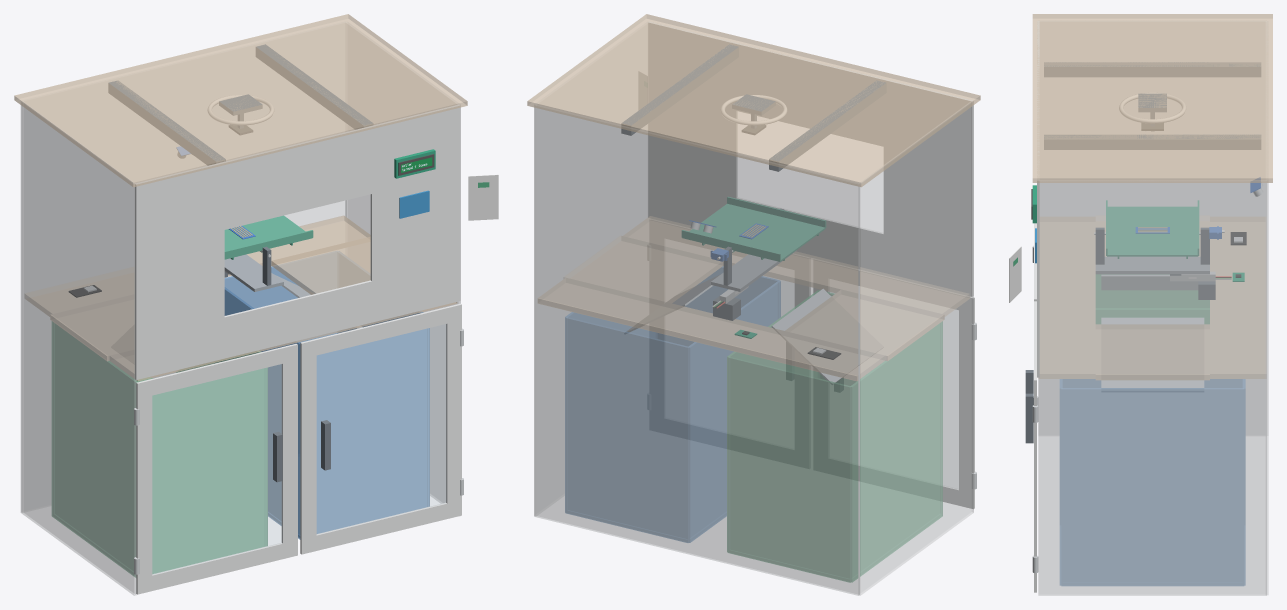
The model's file is counting_system.glb.
3 views of the same model, side by side, from view 1: azimuth 30°, elevation 25°; view 2: azimuth 150°, elevation 25°; view 3: azimuth 270°, elevation 25° (orthographic).
Visible parts, largest first — view 1: Counting_System, Lid, WET_bin, DRY_bin_door, WET_bin_door, DRY_bin, Sorting_flap_3D_printed_200_x_160, LCD_1_outside_the_front_panel_, RFID_reader_outside_the_front_panel_; view 2: Counting_System, WET_bin, Lid, DRY_bin, WET_bin_door, DRY_bin_door, Sorting_flap_3D_printed_200_x_160, 1_kg_load_cell_HX711; view 3: Counting_System, Lid, DRY_bin, Sorting_flap_3D_printed_200_x_160, WET_bin, DRY_bin_door, 1_kg_load_cell_HX711, White_LED_ring, WET_bin_door.
Part boxes in pixels (x1=…): Counting_System: x1=20, y1=22, x2=498, y2=595; Lid: x1=14, y1=14, x2=467, y2=187; WET_bin: x1=52, y1=321, x2=267, y2=577; DRY_bin_door: x1=300, y1=303, x2=461, y2=554; WET_bin_door: x1=136, y1=343, x2=297, y2=594; DRY_bin: x1=221, y1=251, x2=429, y2=539; Sorting_flap_3D_printed_200_x_160: x1=224, y1=215, x2=313, y2=259; LCD_1_outside_the_front_panel_: x1=394, y1=149, x2=435, y2=178; RFID_reader_outside_the_front_panel_: x1=399, y1=190, x2=429, y2=218; Counting_System: x1=534, y1=21, x2=976, y2=595; WET_bin: x1=727, y1=290, x2=942, y2=582; Lid: x1=527, y1=14, x2=980, y2=187; DRY_bin: x1=565, y1=266, x2=780, y2=542; WET_bin_door: x1=813, y1=259, x2=974, y2=508; DRY_bin_door: x1=650, y1=219, x2=810, y2=468; Sorting_flap_3D_printed_200_x_160: x1=681, y1=197, x2=826, y2=261; 1_kg_load_cell_HX711: x1=712, y1=286, x2=748, y2=320; Counting_System: x1=1009, y1=21, x2=1268, y2=595; Lid: x1=1032, y1=14, x2=1272, y2=182; DRY_bin: x1=1060, y1=379, x2=1245, y2=585; Sorting_flap_3D_printed_200_x_160: x1=1094, y1=200, x2=1200, y2=258; WET_bin: x1=1096, y1=274, x2=1209, y2=323; DRY_bin_door: x1=1025, y1=301, x2=1036, y2=592; 1_kg_load_cell_HX711: x1=1170, y1=271, x2=1231, y2=299; White_LED_ring: x1=1119, y1=93, x2=1185, y2=123; WET_bin_door: x1=1025, y1=223, x2=1036, y2=393.
Bounding box in the file's own units: 720 × 809 × 461.
36 materials, 1 textured.
